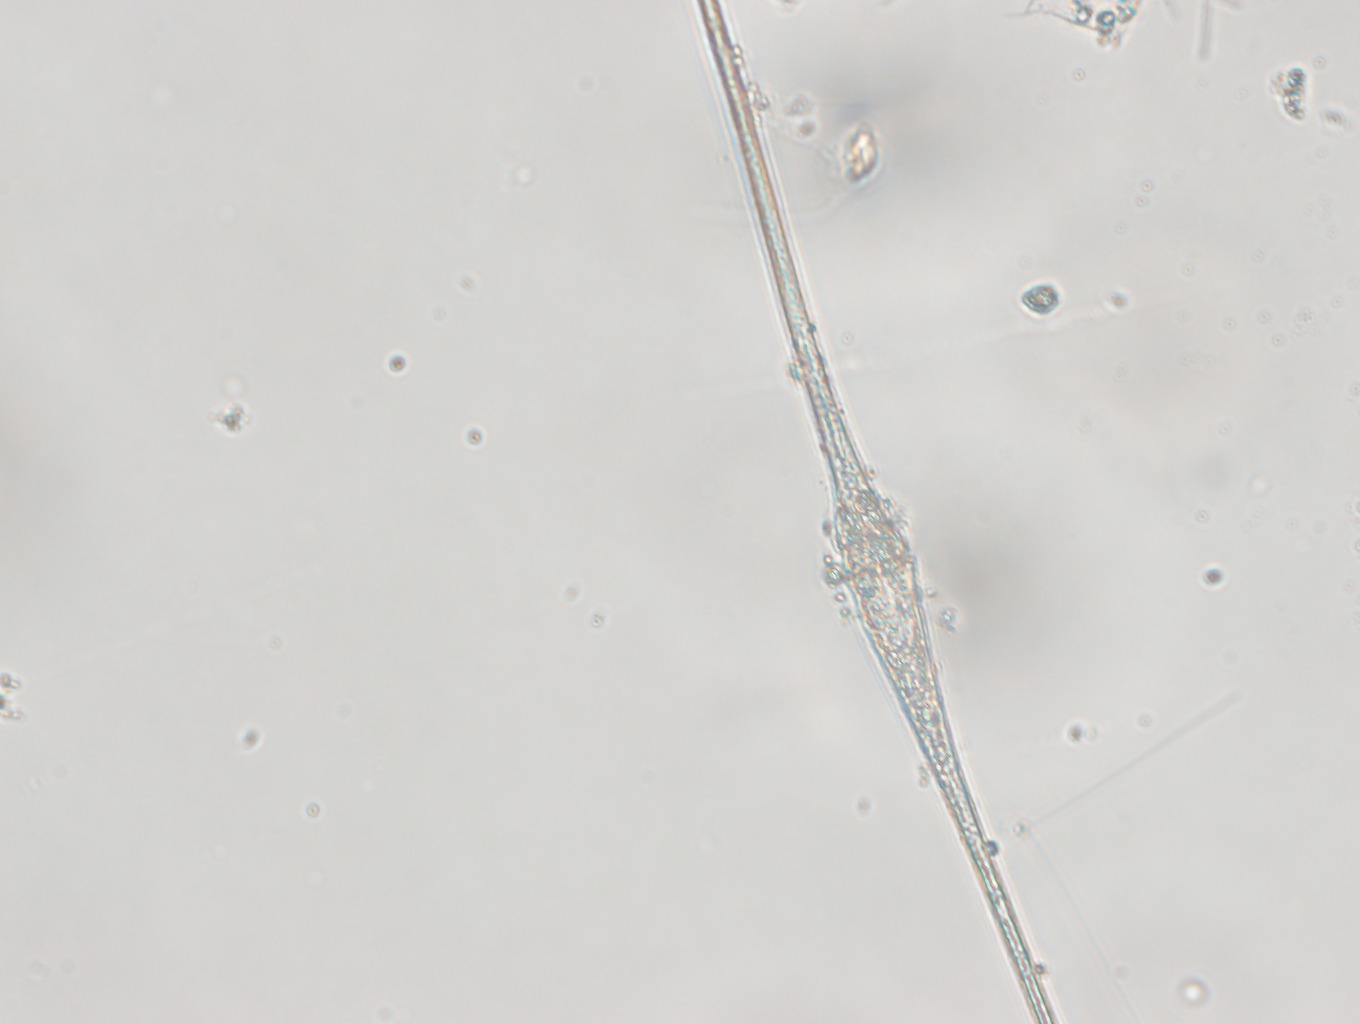ceratium fusus: (685, 1, 1062, 1024)
